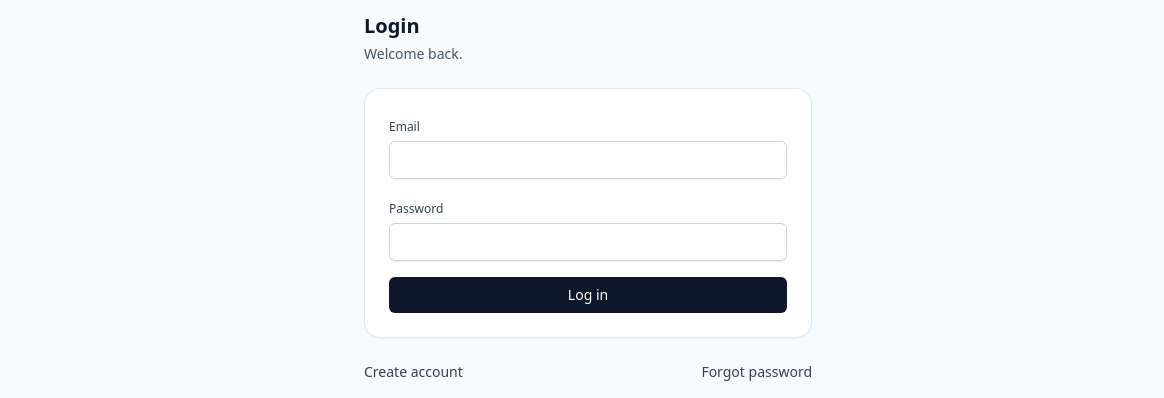
Test: LoginPage › ignores unsafe returnUrl and falls back to /home
The width and height of the screenshot is (1164, 398).
In the field labelled "Email": (588, 160) [389, 141, 787, 179], type "user@example.com"
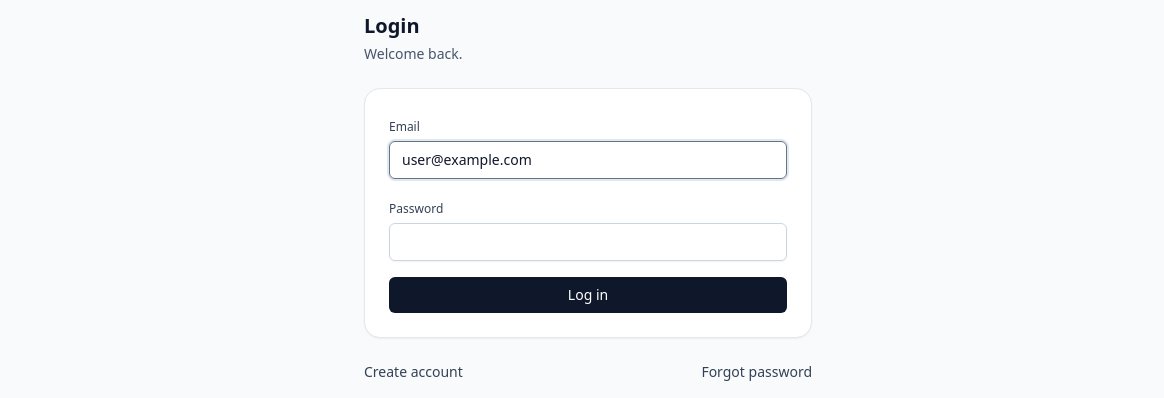
In the password field labelled "Password": (588, 242) [389, 223, 787, 261], type "secret"
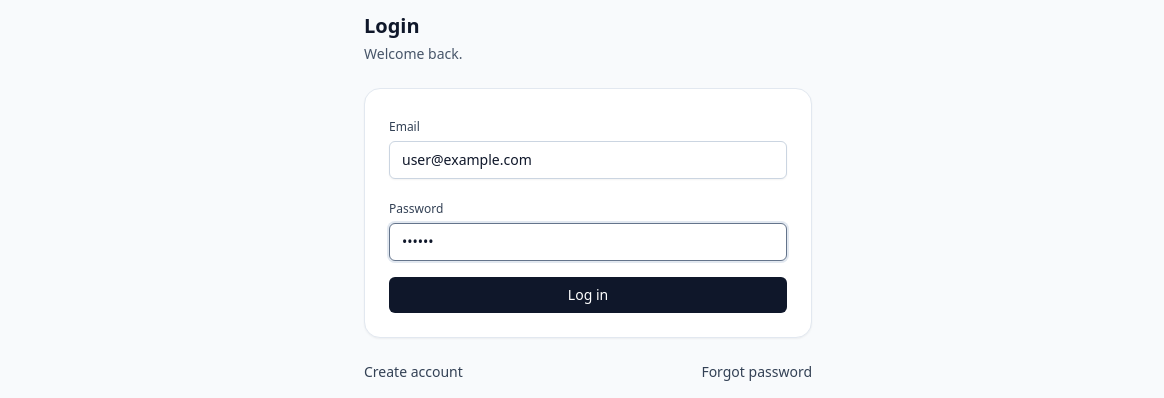
Click the button "Log in": (588, 295) [389, 277, 787, 313]
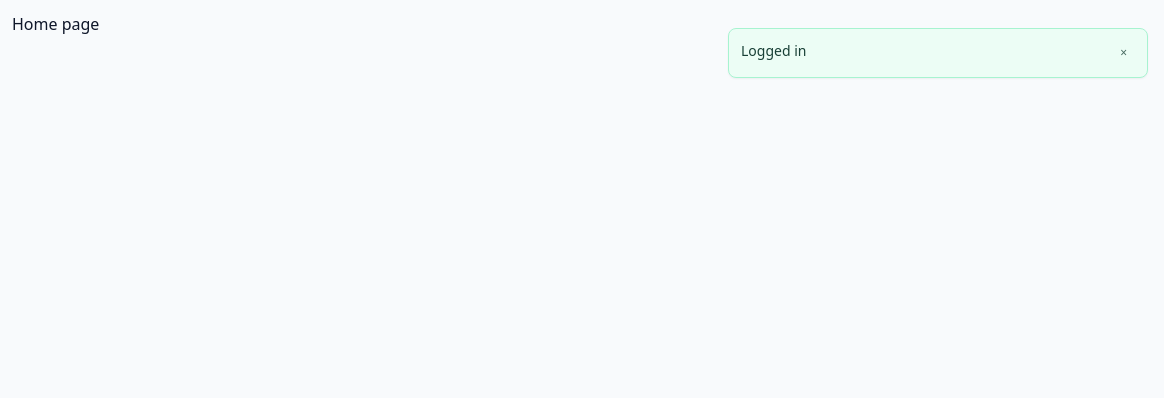
Result: the text "Home page" is shown at [12, 13, 99, 35]
